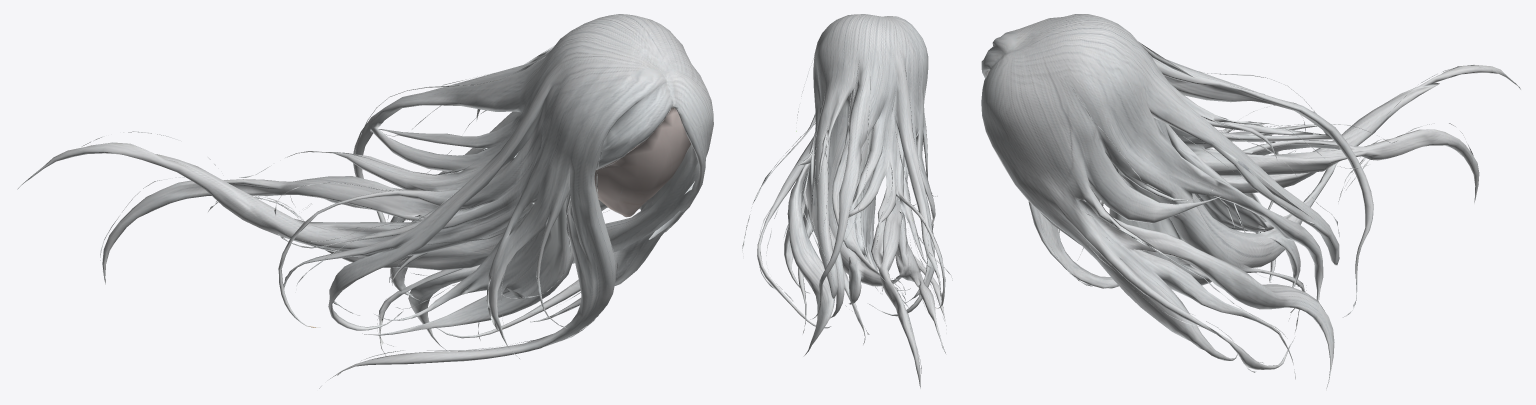
Rendered from hair-4.glb.
The picture shows the model from 3 angles, left to right: view 1: azimuth 30°, elevation 25°; view 2: azimuth 150°, elevation 25°; view 3: azimuth 270°, elevation 25°; orthographic projection. The views are drawn at different scales.
Size of the model in its own units: 0.8643 by 0.7485 by 0.9473.
Materials: 1 (1 with a texture image).
